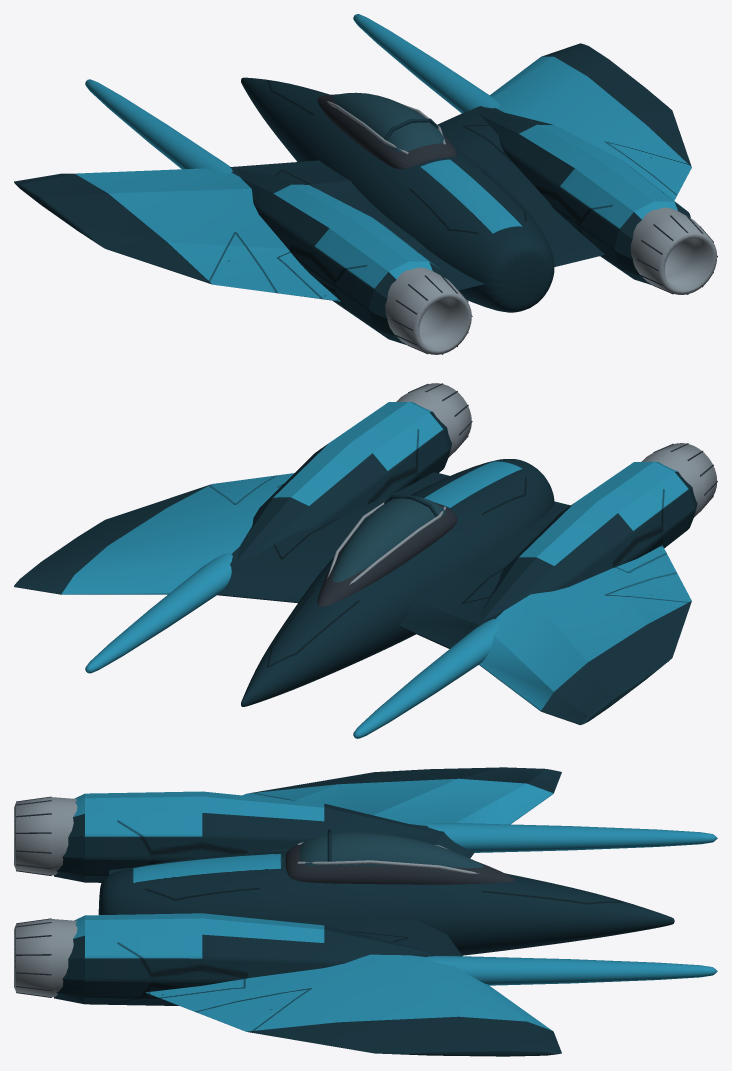
3 views of the same model, one above another, from view 1: azimuth 30°, elevation 25°; view 2: azimuth 150°, elevation 25°; view 3: azimuth 270°, elevation 25° (orthographic).
Visible parts, largest first — view 1: NeonStutterV2; view 2: NeonStutterV2; view 3: NeonStutterV2.
Part boxes in pixels (x1=…): NeonStutterV2: x1=14, y1=14, x2=717, y2=354; NeonStutterV2: x1=14, y1=383, x2=717, y2=738; NeonStutterV2: x1=14, y1=767, x2=717, y2=1056.
Bounding box in the file's own units: 3.02 × 0.6313 × 3.17.
Materials: 6 (2 with a texture image).
